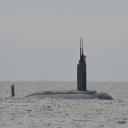submarine: (13, 62, 117, 99)
